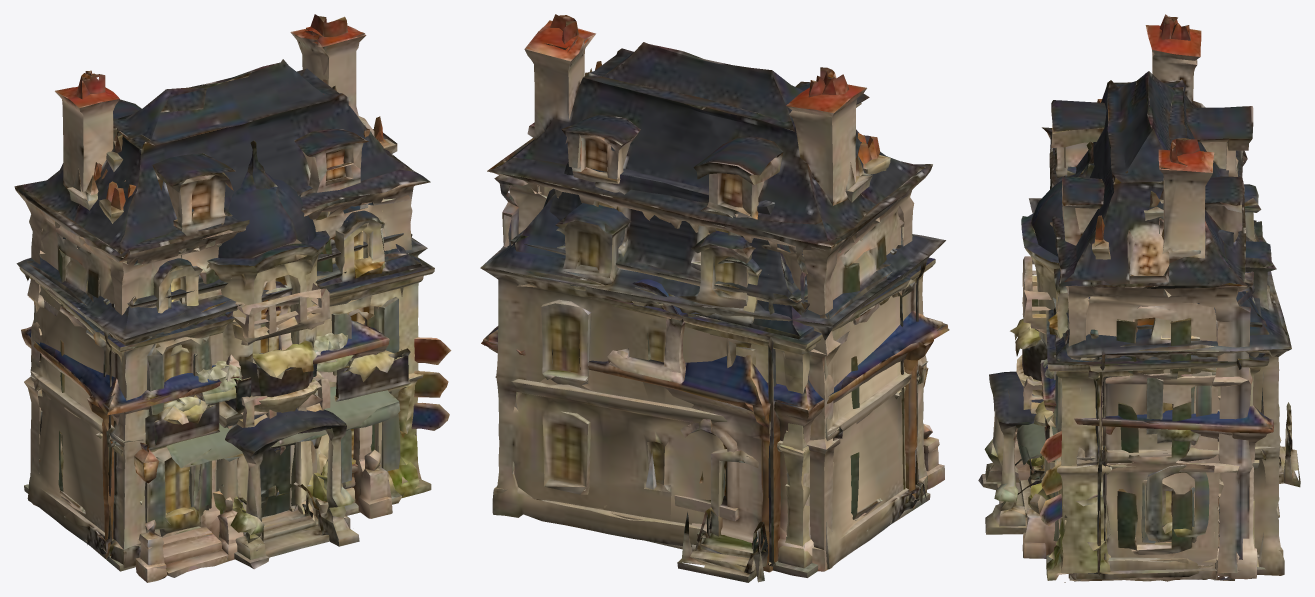
The model's file is classic.glb.
3 views of the same model, side by side, from view 1: azimuth 30°, elevation 25°; view 2: azimuth 150°, elevation 25°; view 3: azimuth 270°, elevation 25° (orthographic). The views are drawn at different scales.
Parts seen in each view (by area): view 1: classic__villa_3__neural_lod, classic__tower_2__neural_lod, classic__hotel_2__neural_lod, classic__junction_hub__neural_lod, classic__shop_2__neural_lod; view 2: classic__hotel_2__neural_lod, classic__villa_3__neural_lod, classic__junction_hub__neural_lod, classic__tower_2__neural_lod, classic__shop_2__neural_lod; view 3: classic__villa_3__neural_lod, classic__hotel_2__neural_lod, classic__tower_2__neural_lod, classic__junction_hub__neural_lod, classic__shop_2__neural_lod.
Part boxes in pixels (x1=…): classic__villa_3__neural_lod: x1=14, y1=14, x2=430, y2=514; classic__tower_2__neural_lod: x1=19, y1=116, x2=434, y2=571; classic__hotel_2__neural_lod: x1=16, y1=101, x2=427, y2=569; classic__junction_hub__neural_lod: x1=21, y1=281, x2=451, y2=582; classic__shop_2__neural_lod: x1=63, y1=79, x2=403, y2=468; classic__hotel_2__neural_lod: x1=480, y1=155, x2=945, y2=582; classic__villa_3__neural_lod: x1=487, y1=14, x2=932, y2=571; classic__junction_hub__neural_lod: x1=481, y1=279, x2=949, y2=572; classic__tower_2__neural_lod: x1=513, y1=61, x2=935, y2=577; classic__shop_2__neural_lod: x1=510, y1=68, x2=901, y2=386; classic__villa_3__neural_lod: x1=1022, y1=14, x2=1254, y2=582; classic__hotel_2__neural_lod: x1=978, y1=184, x2=1300, y2=579; classic__tower_2__neural_lod: x1=1010, y1=99, x2=1269, y2=580; classic__junction_hub__neural_lod: x1=1013, y1=362, x2=1273, y2=579; classic__shop_2__neural_lod: x1=1016, y1=166, x2=1262, y2=464.
Bounding box in the file's own units: 1.03 × 1.28 × 0.8563.
5 materials, 5 textured.
